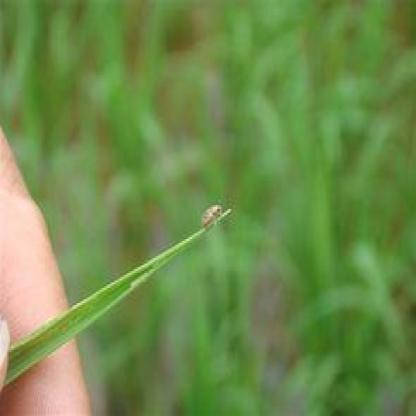rice-bug: (201, 201, 223, 232)
